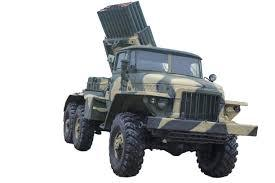MIL_SAM_TEL: (56, 1, 239, 176)
